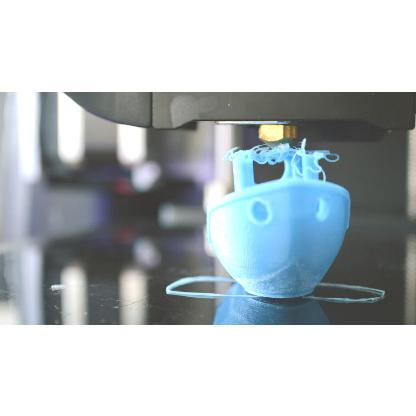fail: (223, 144, 333, 168)
